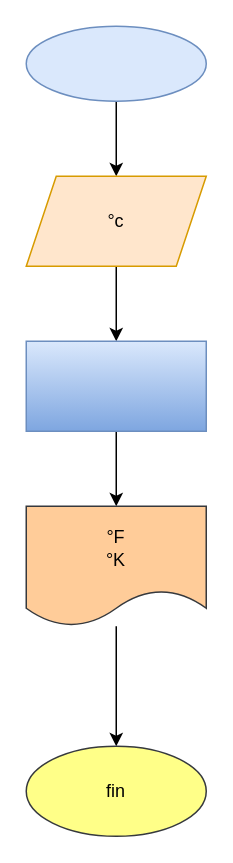
This 233x863 diagram has some shape labels left out. Here are the shapes that lost their labels. From the top down, the box of each, then its label:
(25, 25, 206, 101): inicio
(25, 340, 206, 431): °F=(°c*9/5) + 32 °K=°C + 273.15
